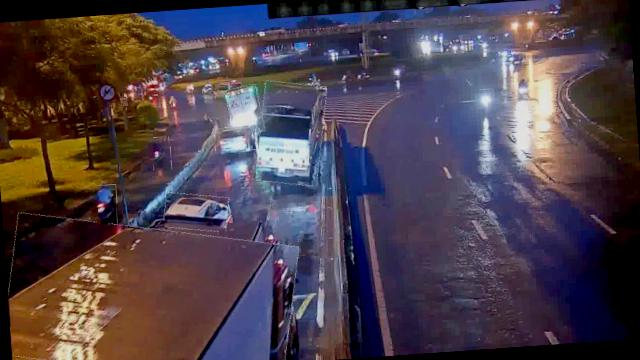Bike: (93, 184, 117, 224), (150, 136, 171, 170), (479, 88, 495, 114)
Car: (162, 190, 230, 233), (213, 124, 257, 154)
Truck: (2, 206, 300, 360), (252, 79, 328, 188), (226, 85, 264, 136)
